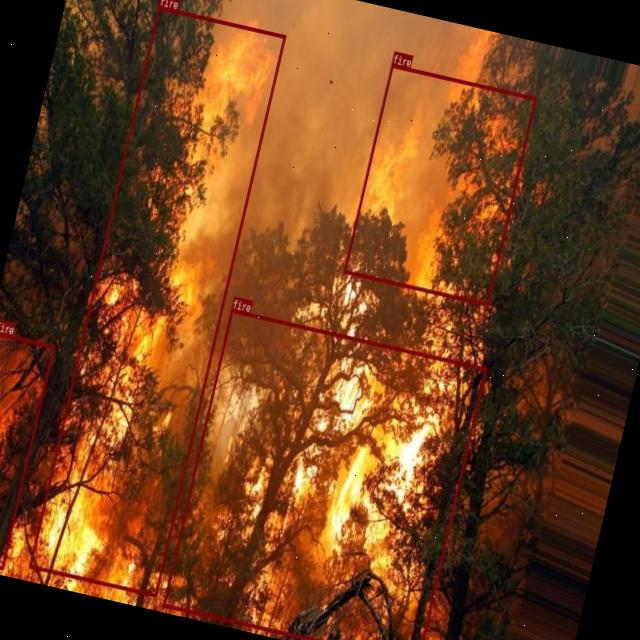fire: (28, 5, 285, 597), (162, 308, 486, 640), (342, 64, 536, 306), (0, 331, 54, 569)
